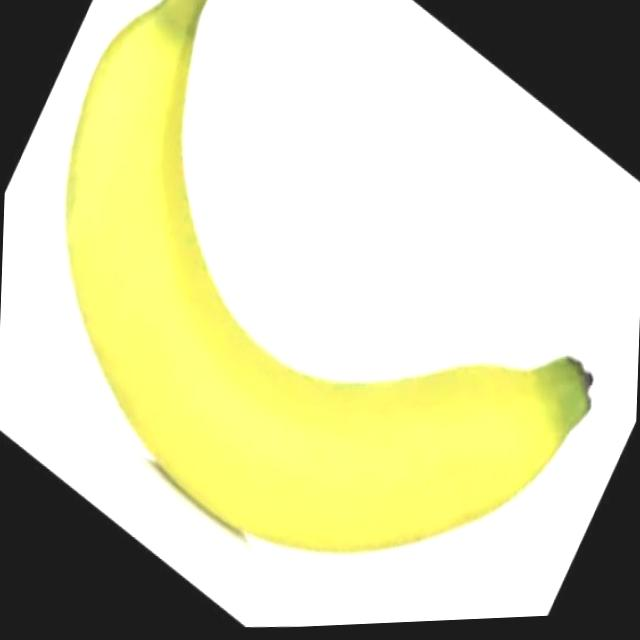Banana: (52, 0, 608, 575)
